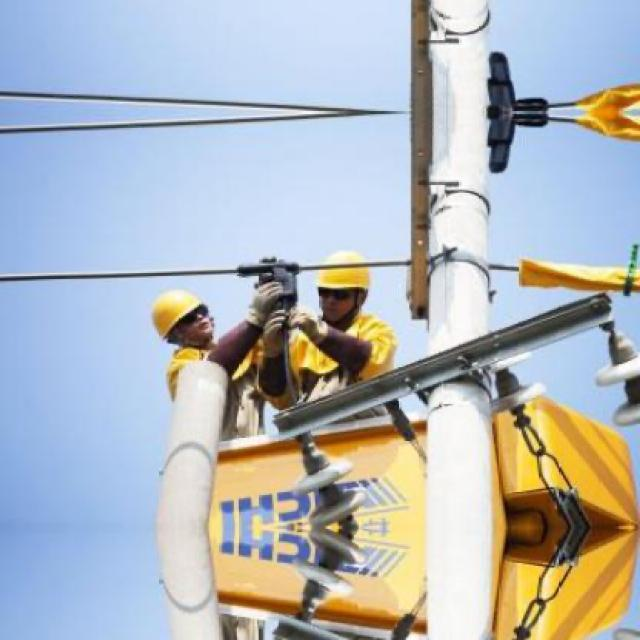helmet: (311, 242, 377, 324), (144, 285, 224, 352)
